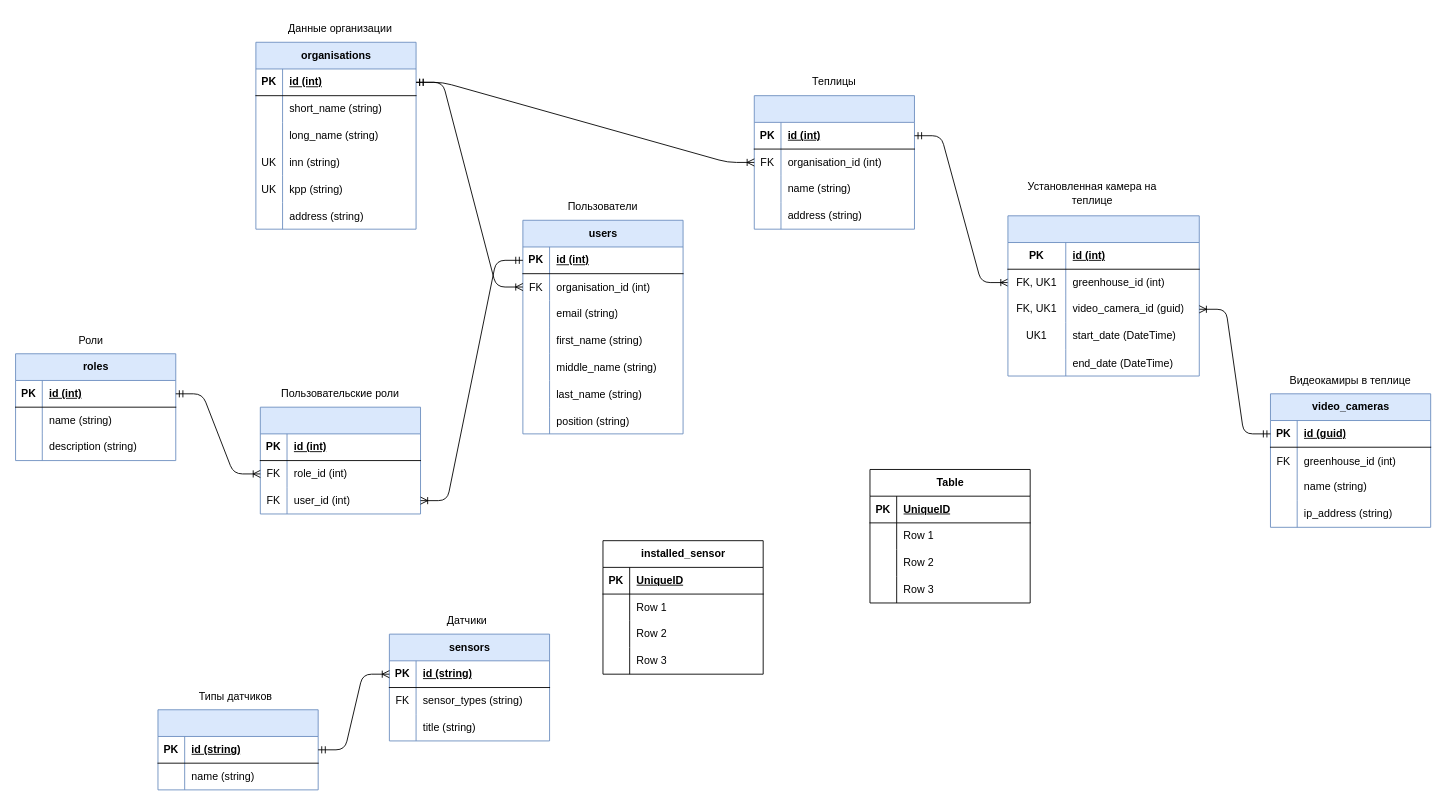
Some shapes in this 1446 by 805 pixel diagram are drawn without their labels. The shapes that lost their labels are listed below. From the top down, each one's box as (x1, y1, x2, y2) in pixels, then its label:
(753, 95, 914, 229): greenhouses
(1007, 215, 1199, 376): installed_video_cameras
(259, 406, 421, 514): user_roles
(157, 709, 318, 790): sensor_types
